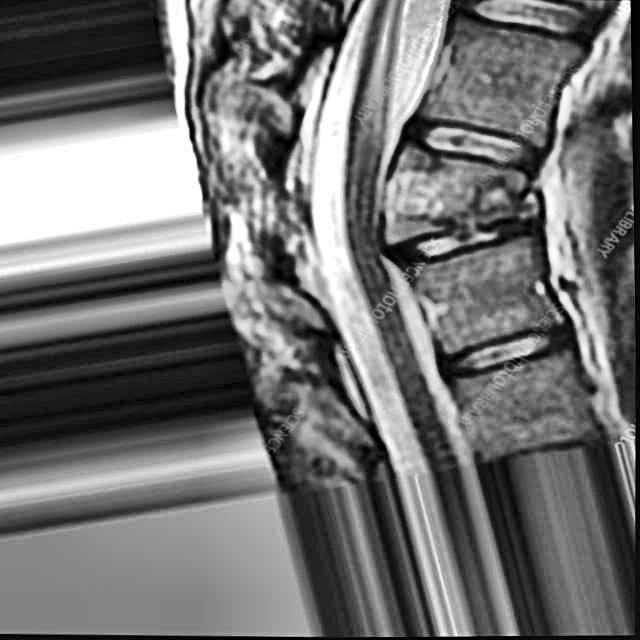Comminuted: (388, 166, 564, 276)
